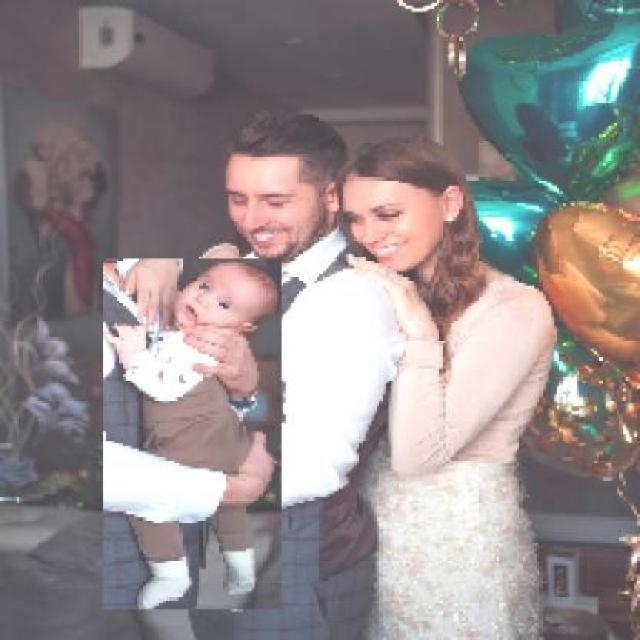child: (101, 258, 282, 611)
